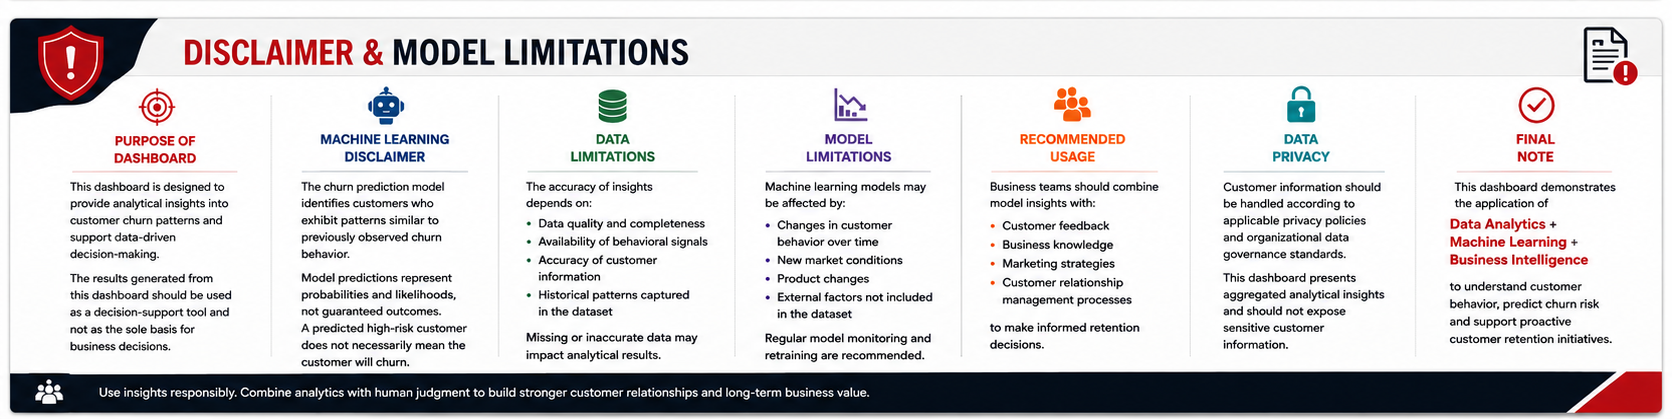

The dashboard page shown, as its layout file describes it:
{"tool":"powerbi","page":{"name":"Disclaimer","canvas":[1280,720],"ordinal":6},"visuals":[{"type":"image","box":[0,0,1279.7,720],"z":0},{"type":"textbox","box":[437,11.6,406.6,63.6],"z":1}]}

Visuals, with their boxes on the page's 1280x720 design canvas (x1, y1, x2, y2). These are canvas units, not pixel positions in the 1672x420 screenshot, which may show the page scaled, cropped or inside an application window:
image: box=[0, 0, 1280, 720]
textbox: box=[437, 12, 844, 75]
